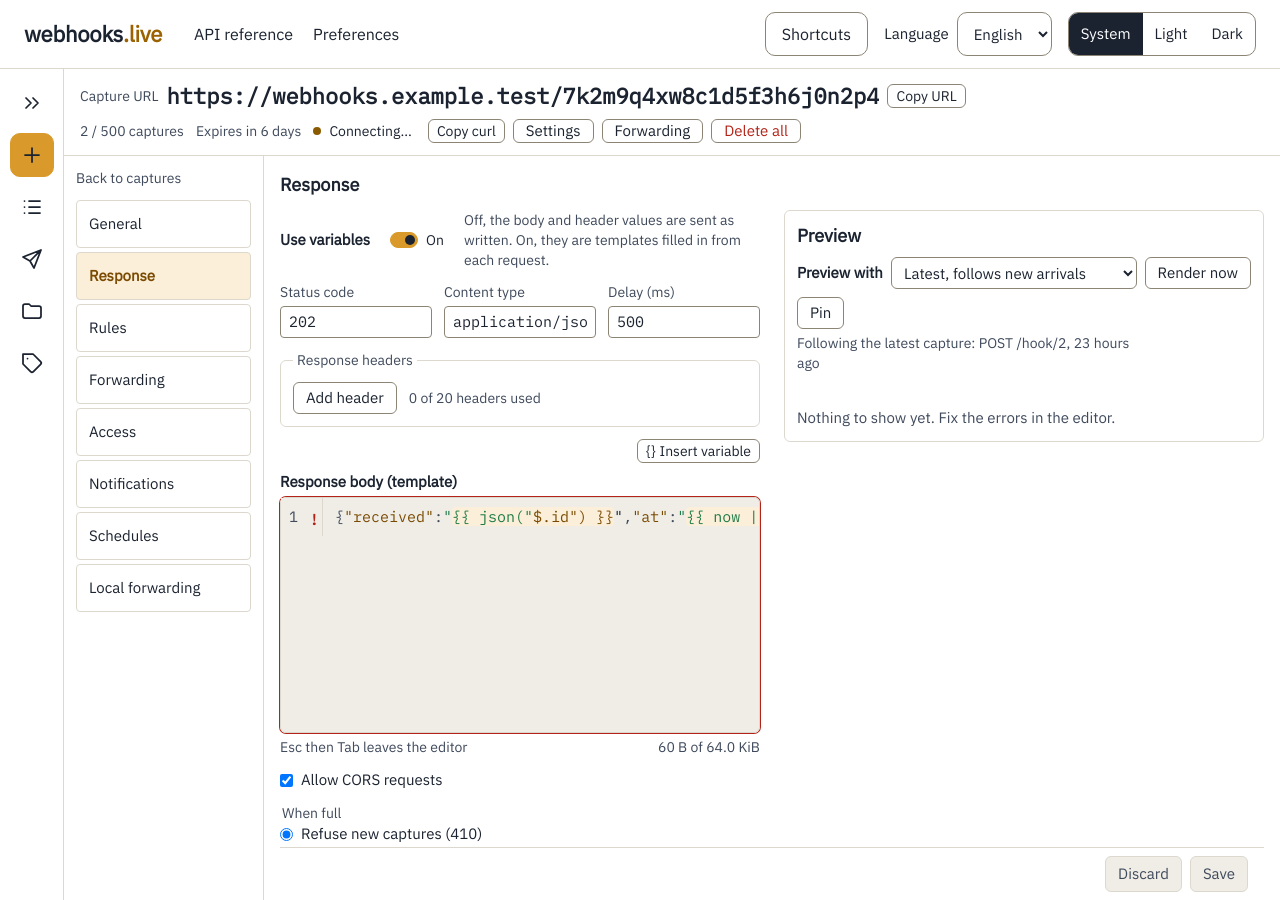
Test: response templating › lists an error from the server, keeps the last valid render and disables Save
Expected: the text "Nothing to show yet. Fix the errors in the editor." is shown, [797,408,1115,427]
Replace the text in the number field labelled "Status code" with "201": (356, 322) [280,306,432,338]
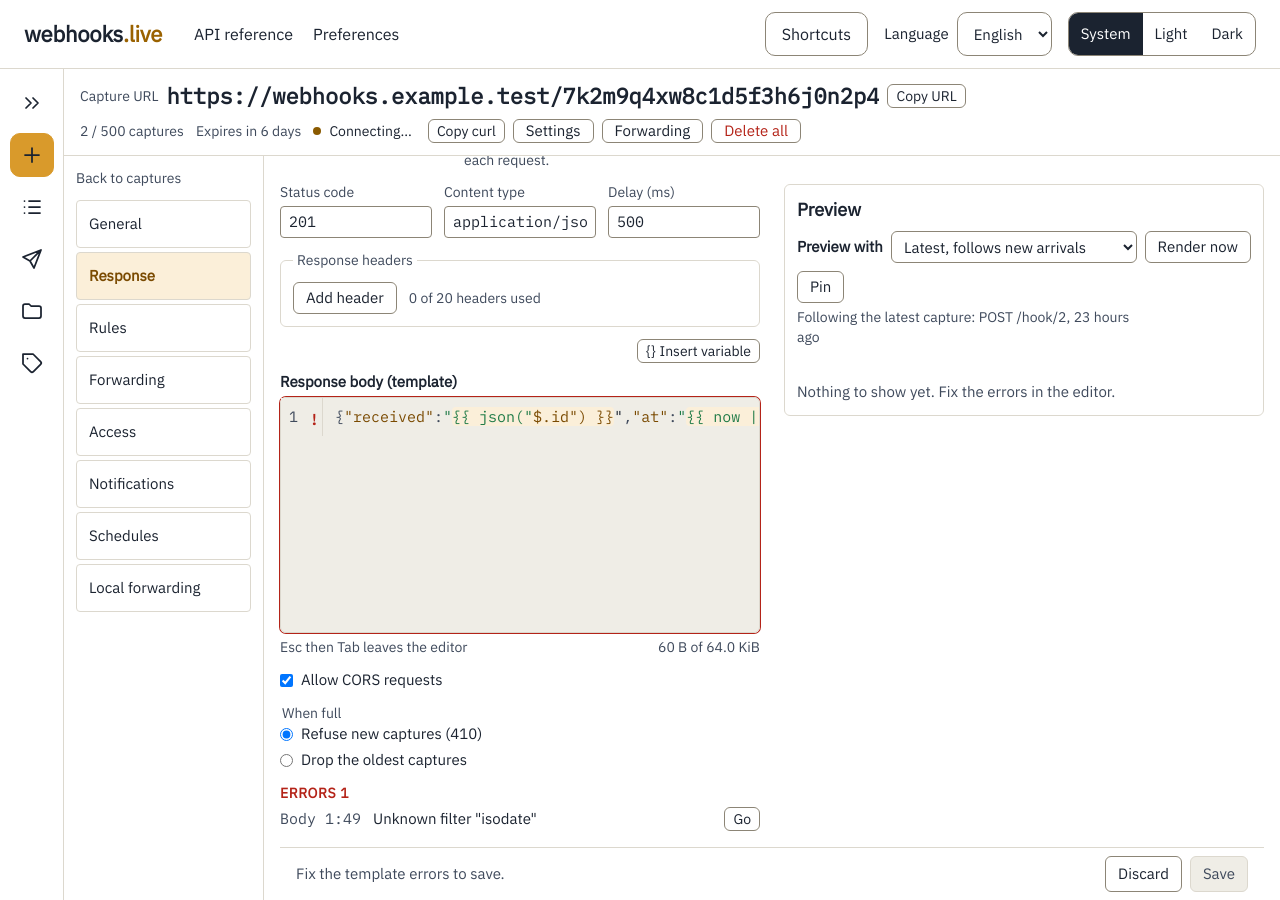
Expected: the button "Save" is disabled, [1190,856,1248,892]
Expected: the text "Fix the template errors to save." is shown, [296,863,505,885]
